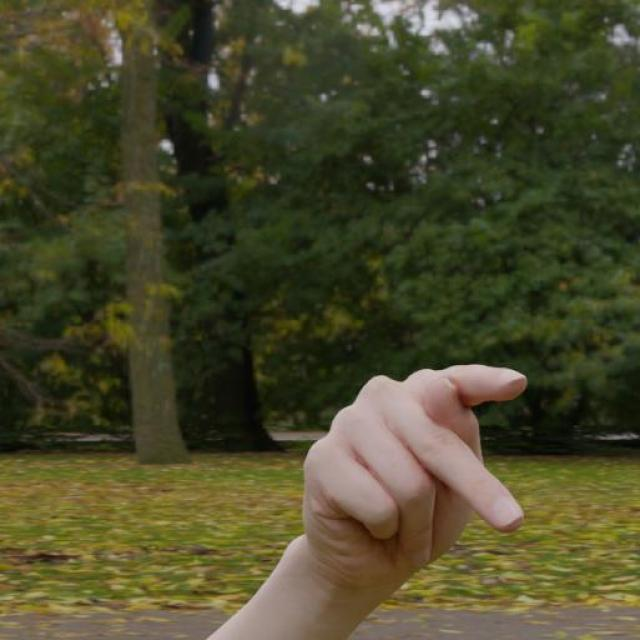P: (294, 345, 552, 587)
